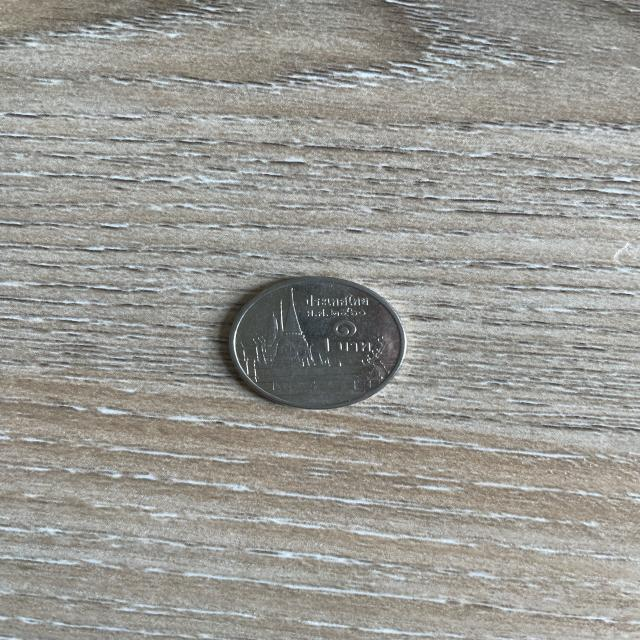1 Bath: (207, 270, 429, 417)
